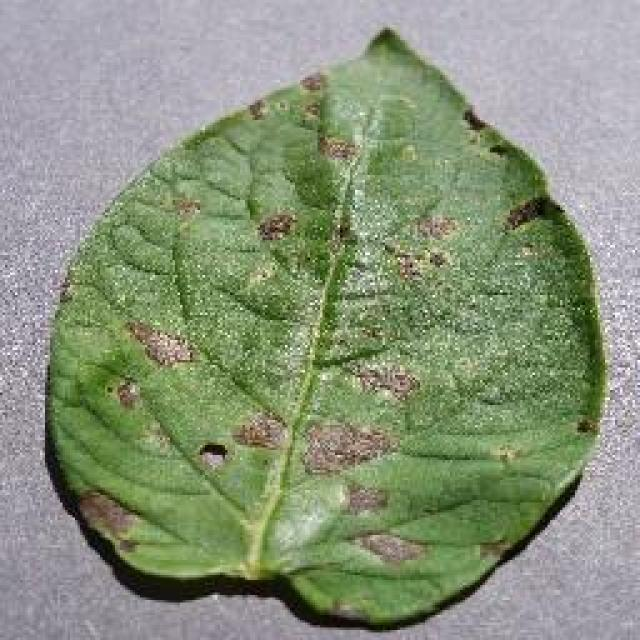early_blight: (38, 22, 612, 632)
